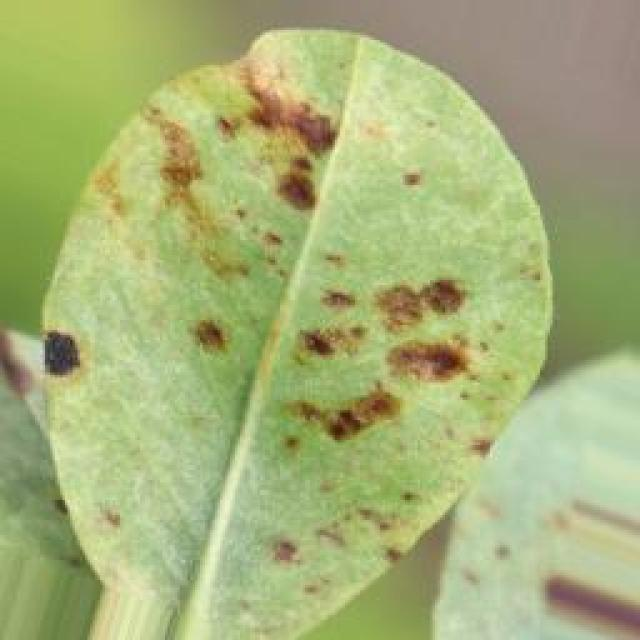Whitefly: (90, 24, 490, 608)
